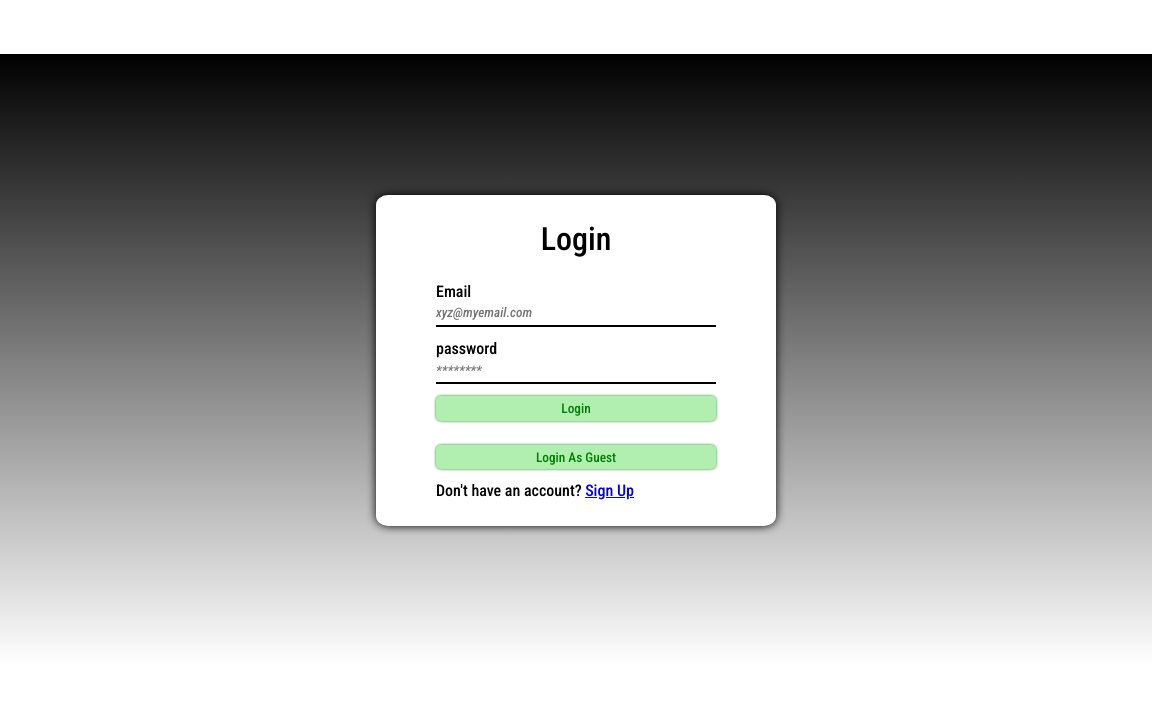
Test: Sign up form › Successful Login
The width and height of the screenshot is (1152, 720).
Step 1. Type "testUser@email.com" into the field with placeholder "xyz@myemail.com" → (576, 314), box [436, 300, 716, 327]
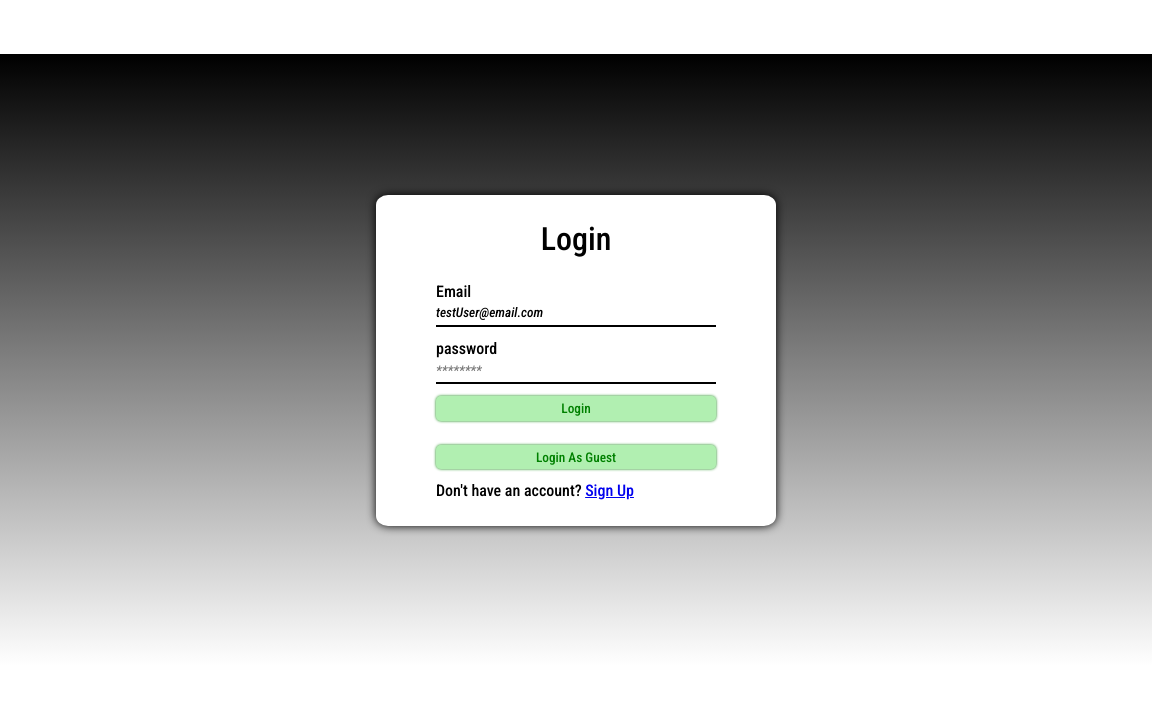
Step 2. Type "testUserPassword" into the password field with placeholder "********" → (576, 371), box [436, 358, 716, 384]
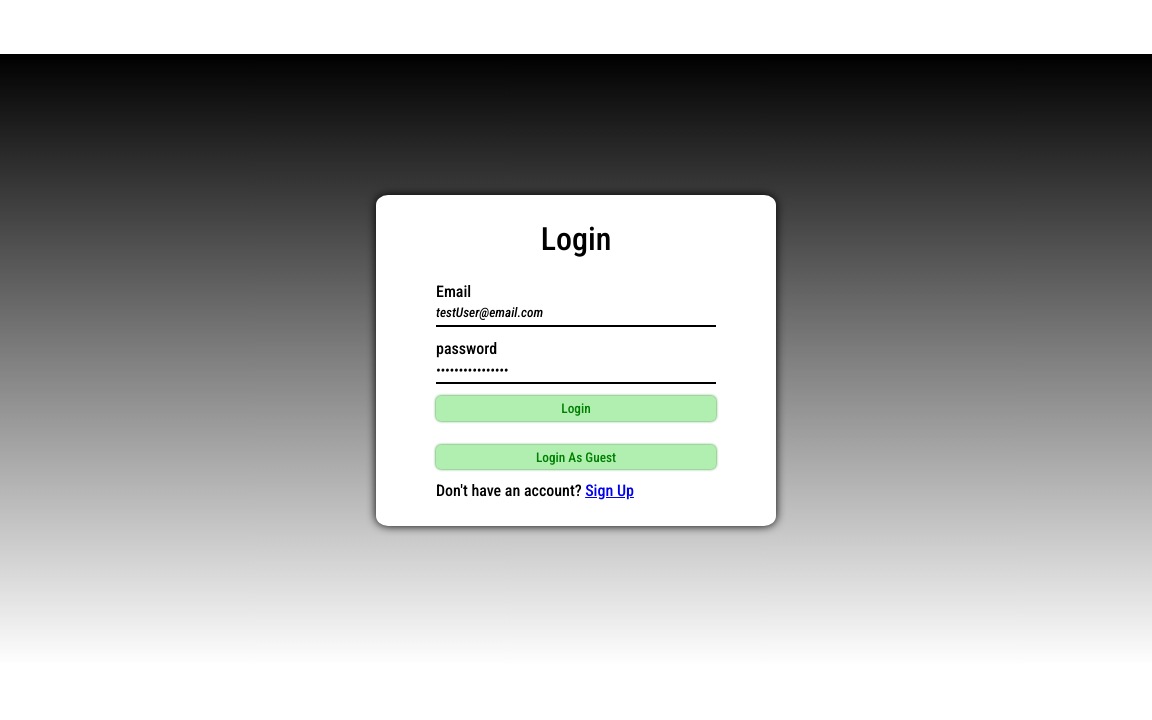
Step 3. Click the button with aria-label "loginFormSubmit" → (576, 409), box [436, 396, 716, 421]
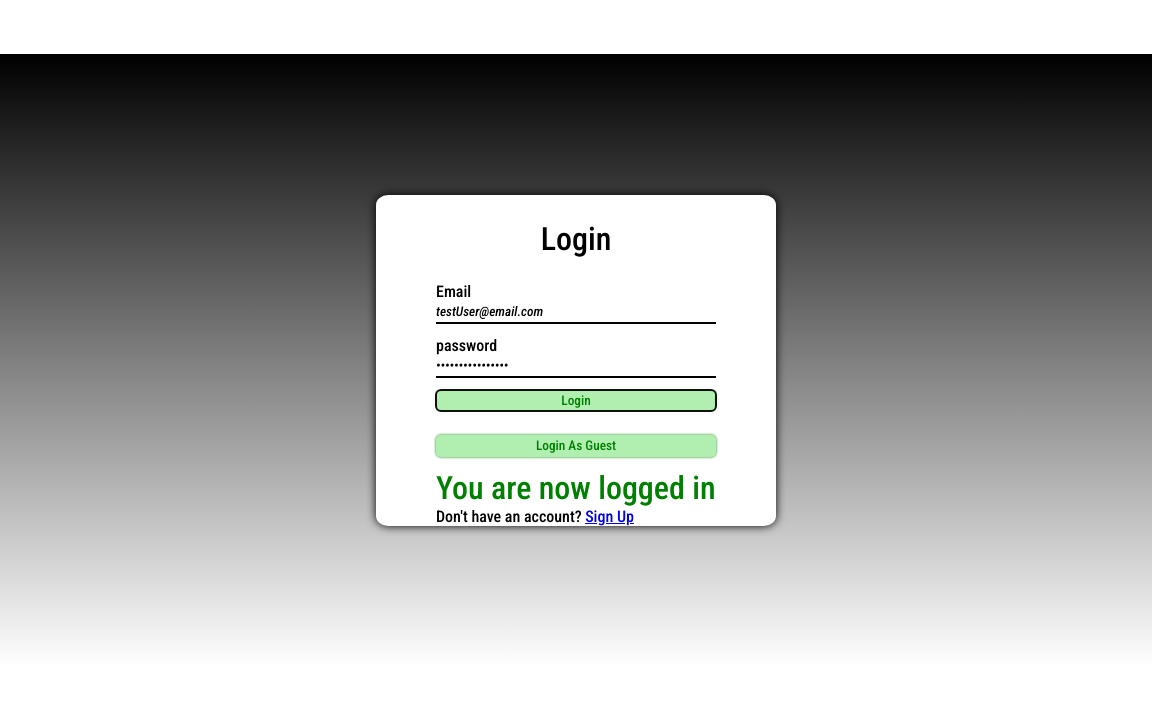
Now the text "You are now logged in" is shown, box [436, 468, 716, 506]
